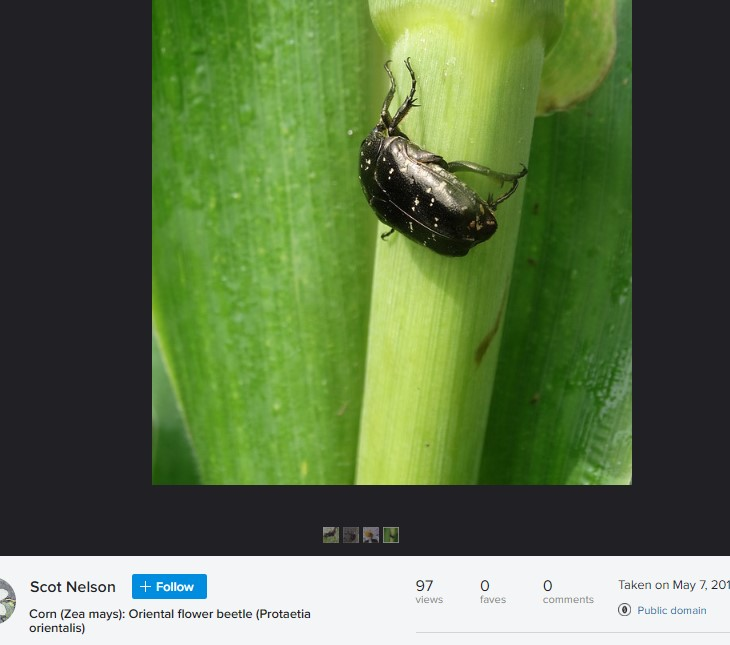Protaetia _orientalis: (355, 53, 533, 257)
